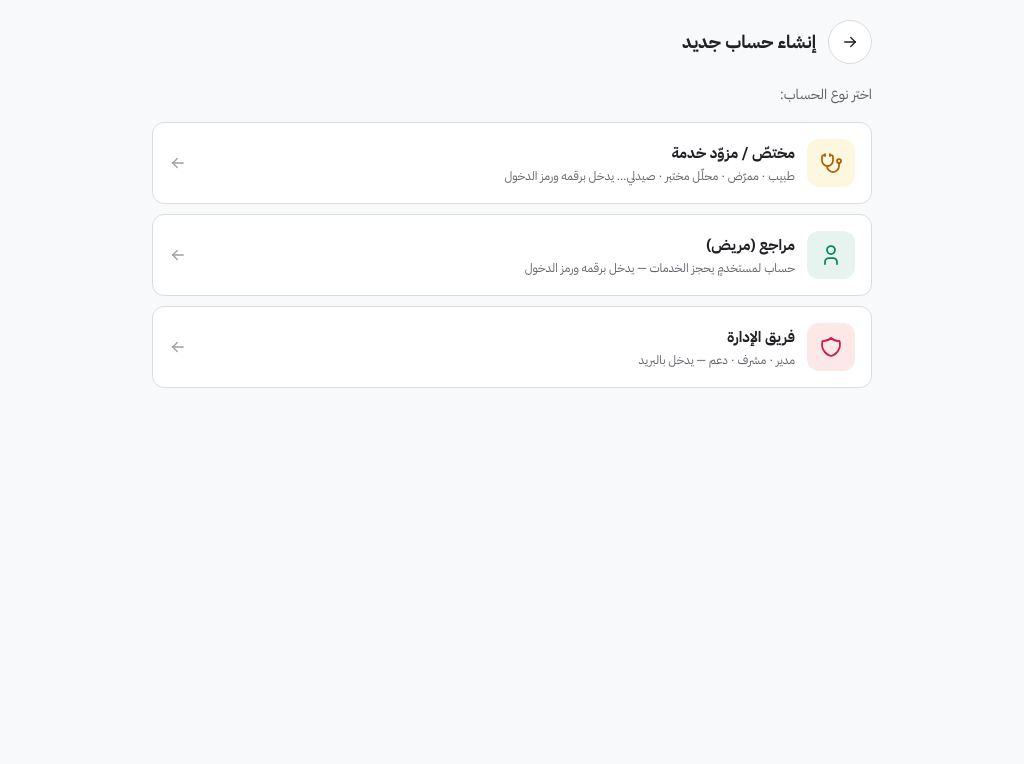
Test: إنشاءُ الحساب › بلا تحقّقٍ عكسيّ: زرُّ بيانات الدخول وحده
Click the text "مختصّ / مزوّد خدمة": [733, 153] box x1=671 y1=142 x2=795 y2=164
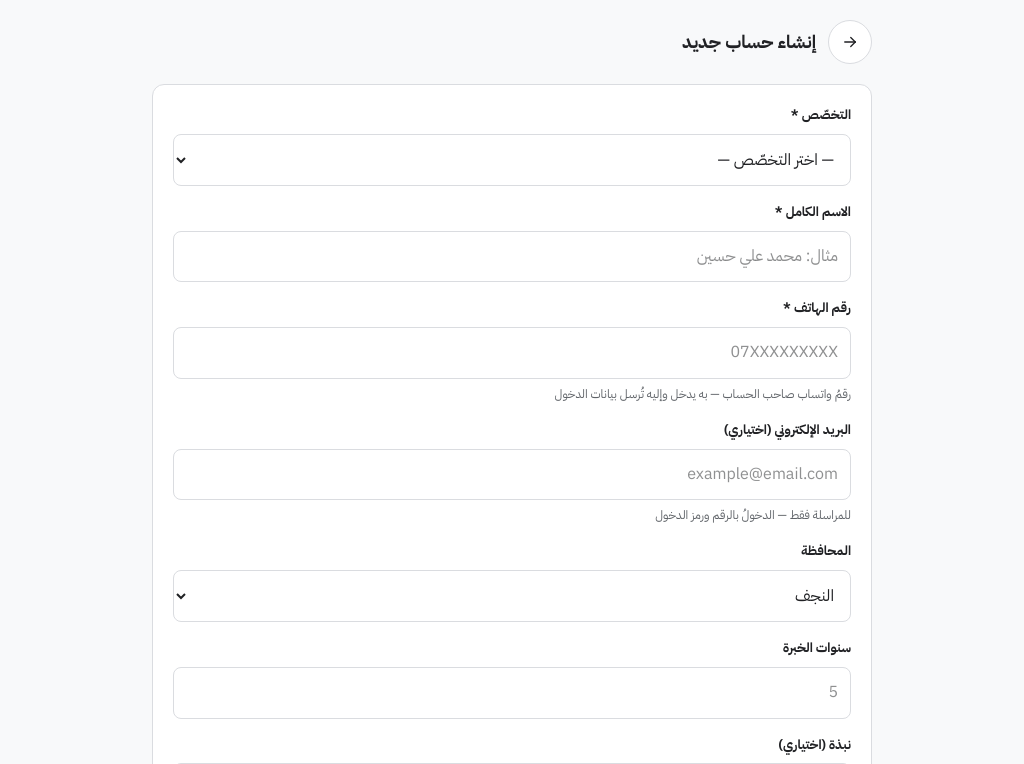
Select "تمريضي/ة" in the dropdown with id "specialistType": [512, 160] box x1=173 y1=134 x2=851 y2=186
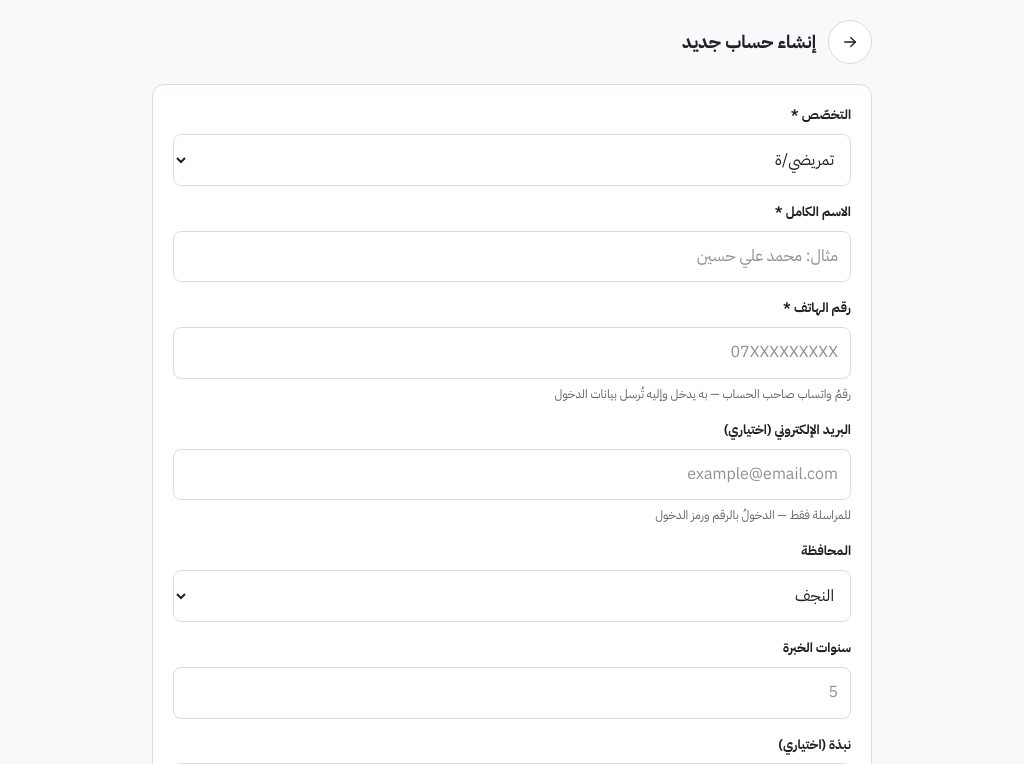
In the field with id "fullName": [512, 256] box x1=173 y1=231 x2=851 y2=282, type "علي حسين"
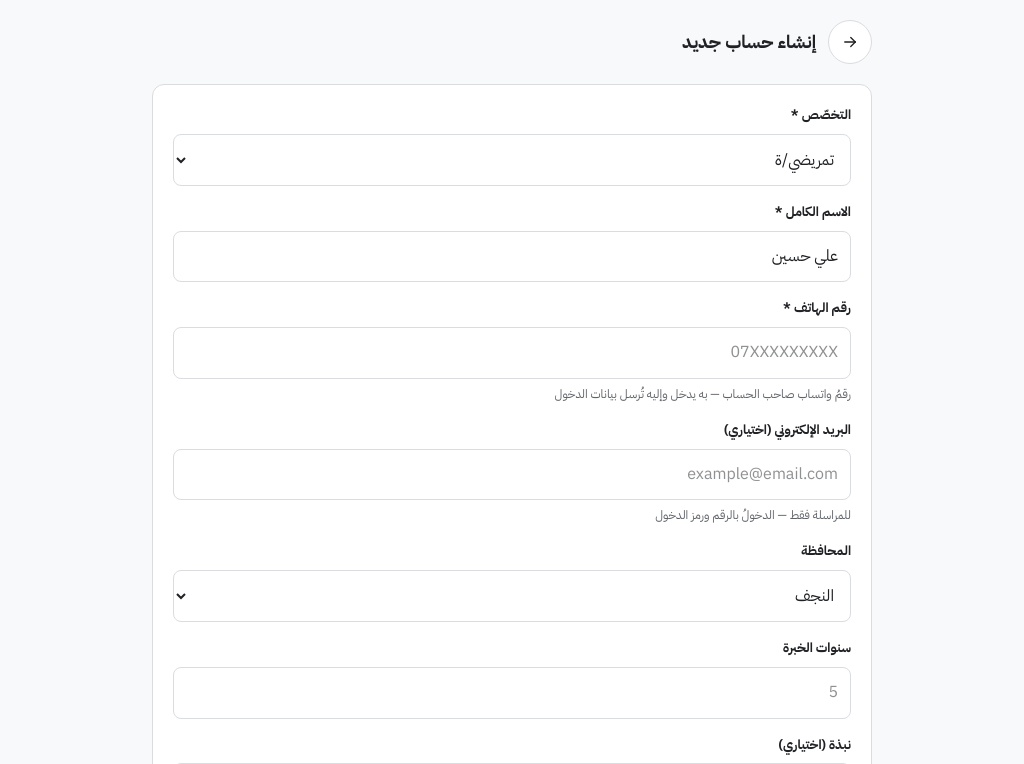
In the field labelled "رقم الهاتف *": [512, 353] box x1=173 y1=327 x2=851 y2=379, type "07701234567"
(page scrolled)
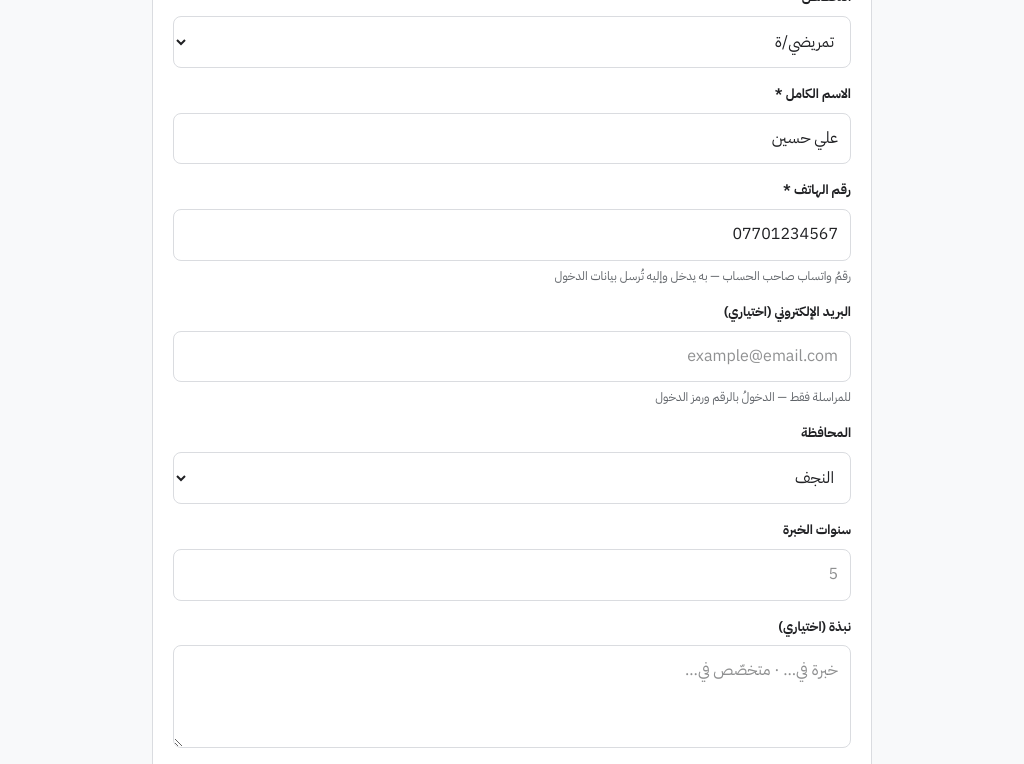
Submit the form
(page scrolled)
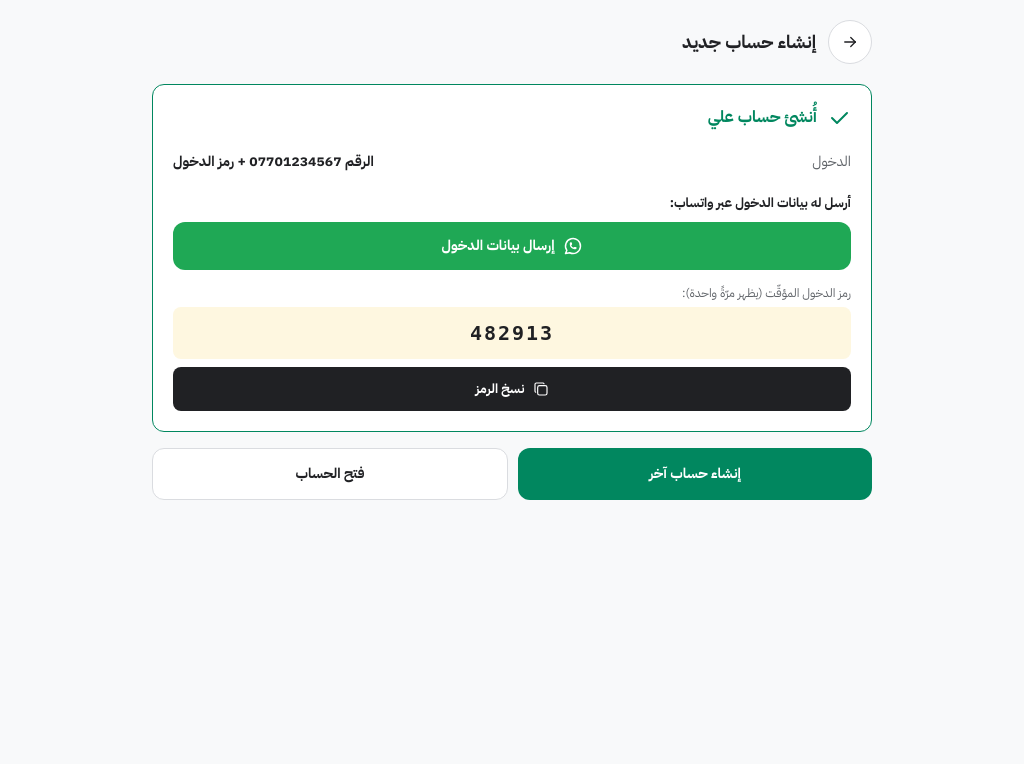
Result: the link with test id "wa-credentials" reads "إرسال بيانات الدخول" at x1=173 y1=222 x2=851 y2=270
